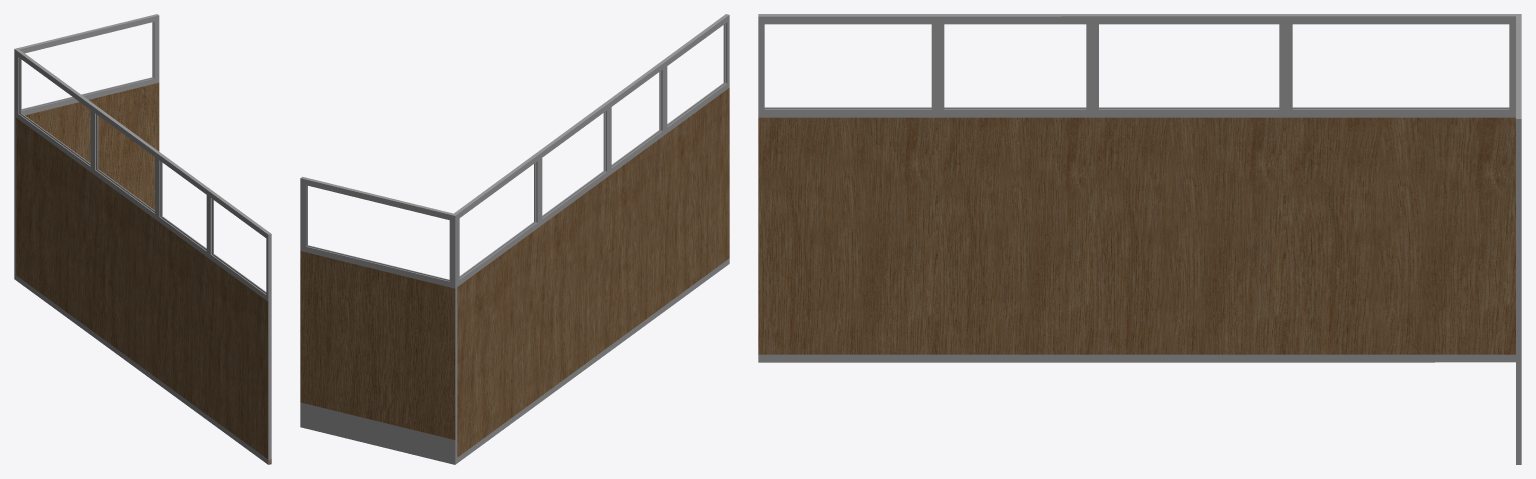
Rendered from cubiculo_4.glb.
3 renders of one model, left to right at view 1: azimuth 30°, elevation 25°; view 2: azimuth 150°, elevation 25°; view 3: azimuth 270°, elevation 25°, orthographic. The views are drawn at different scales.
Visible parts, largest first — view 1: cubiculo 4_export; view 2: cubiculo 4_export; view 3: cubiculo 4_export.
Part boxes in pixels (x1,y1,x2,y2): cubiculo 4_export: [14, 14, 271, 464]; cubiculo 4_export: [300, 14, 729, 464]; cubiculo 4_export: [758, 14, 1521, 464].
Size of the model in its own units: 5.85 by 9 by 17.99.
2 materials, 1 textured.
